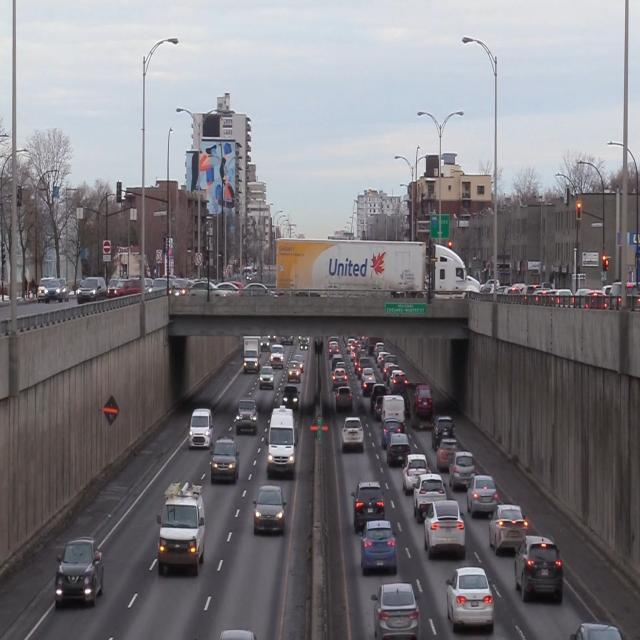Car: (54, 537, 104, 607), (252, 484, 287, 534), (569, 622, 624, 639)
Traffic-light: (115, 180, 123, 203), (575, 200, 582, 220), (601, 255, 609, 271)
Truck: (274, 237, 476, 299)
